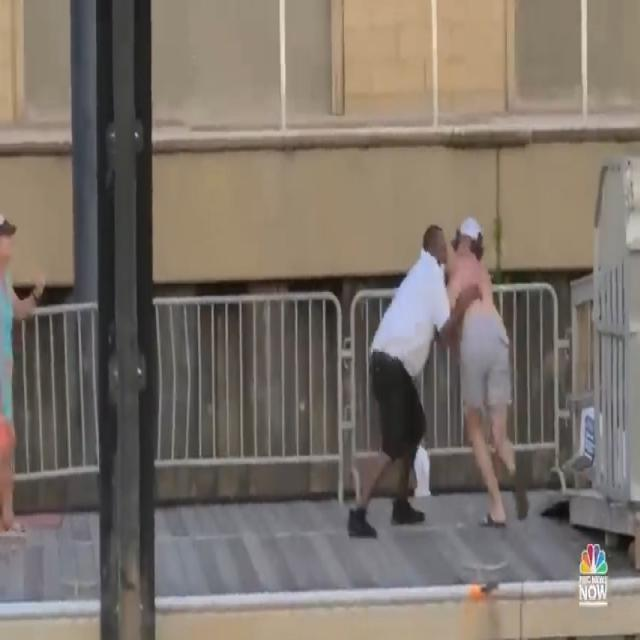fight: (348, 194, 538, 544)
